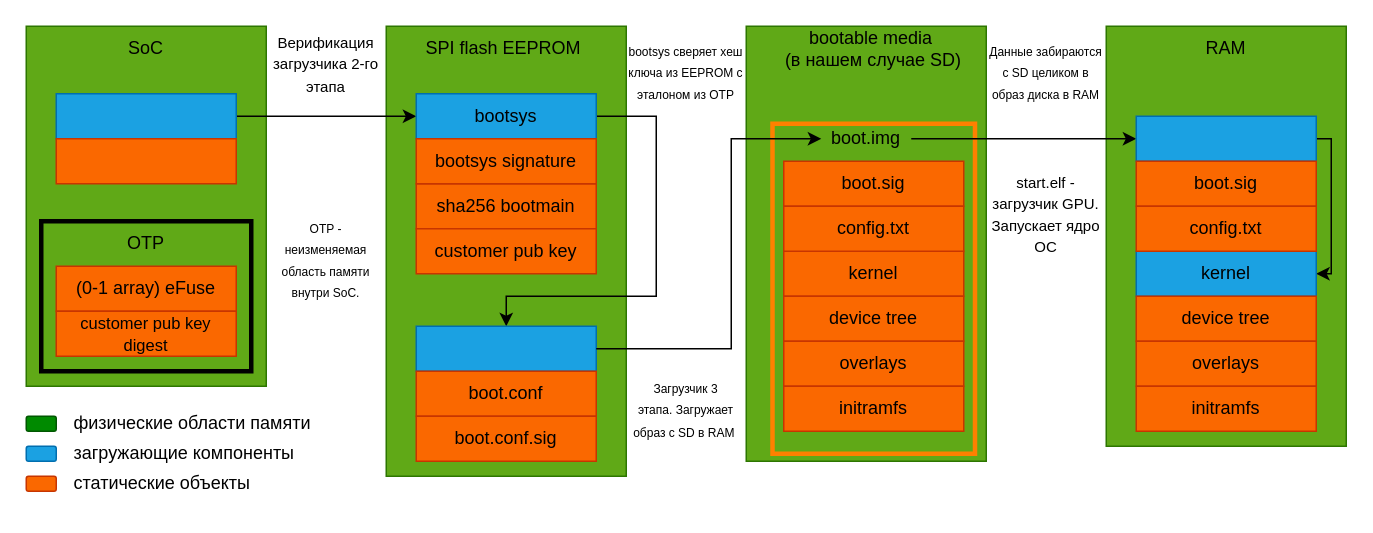
This 1373x533 diagram has some shape labels left out. The centre of each missing label's shape, as x and y in pixels:
"bootmain" belongs at (505,348).
"BootROM" belongs at (145,115).
"RPI Foundation key 1-4" belongs at (145,160).
"start.elf" belongs at (1225,138).
